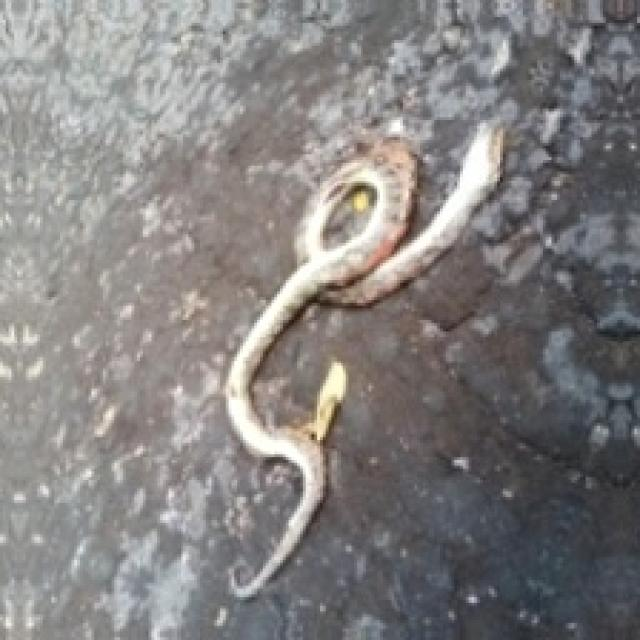reticulated python: (225, 122, 499, 598)
